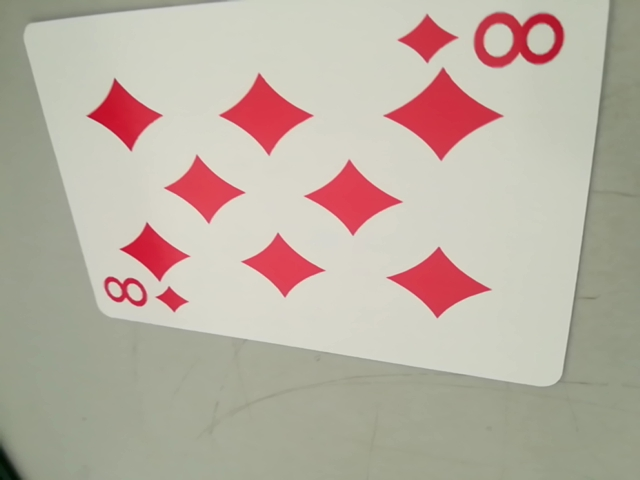fk 8: (398, 2, 568, 77), (99, 272, 187, 319)
